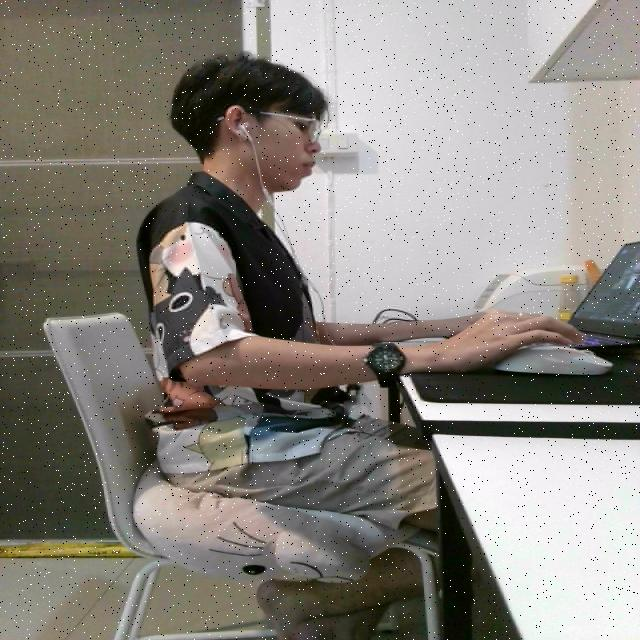Good: (128, 52, 507, 533)
